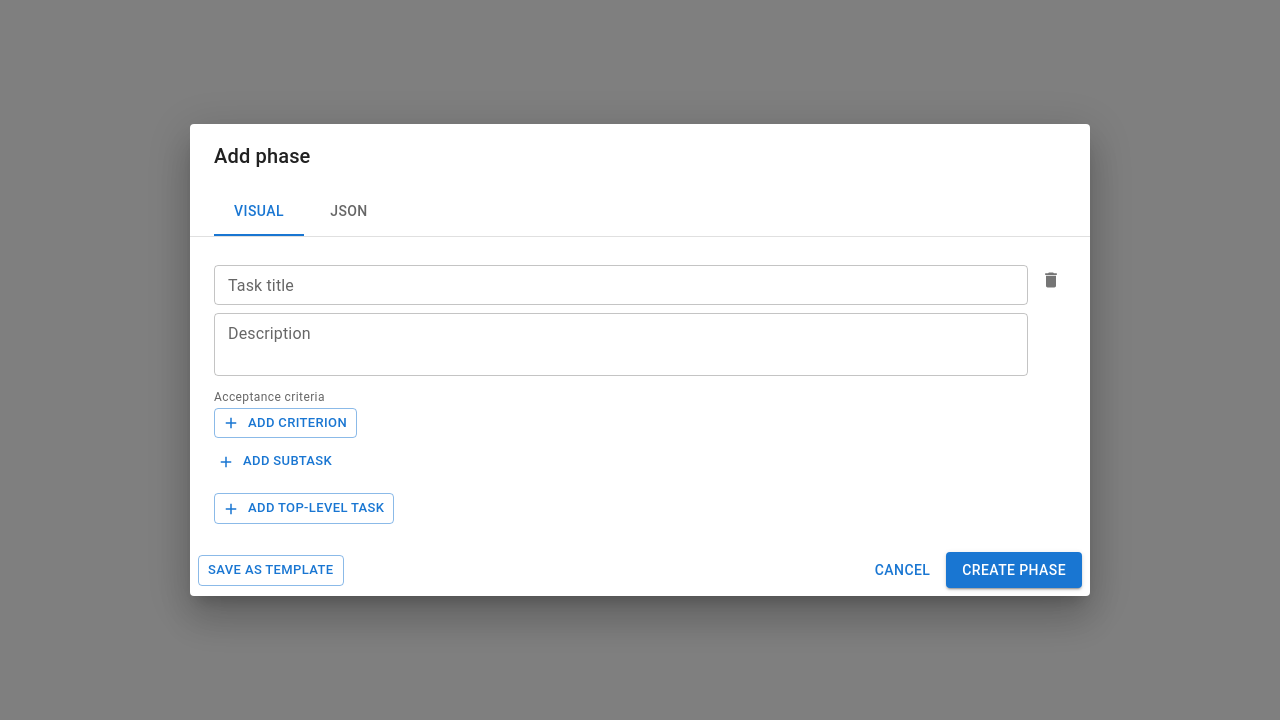
Test case: NewPhaseDialog › opens the save-as-template dialog and saves on confirm
Click the button with test id "new-phase-save-template": (271, 570) [198,555,344,586]
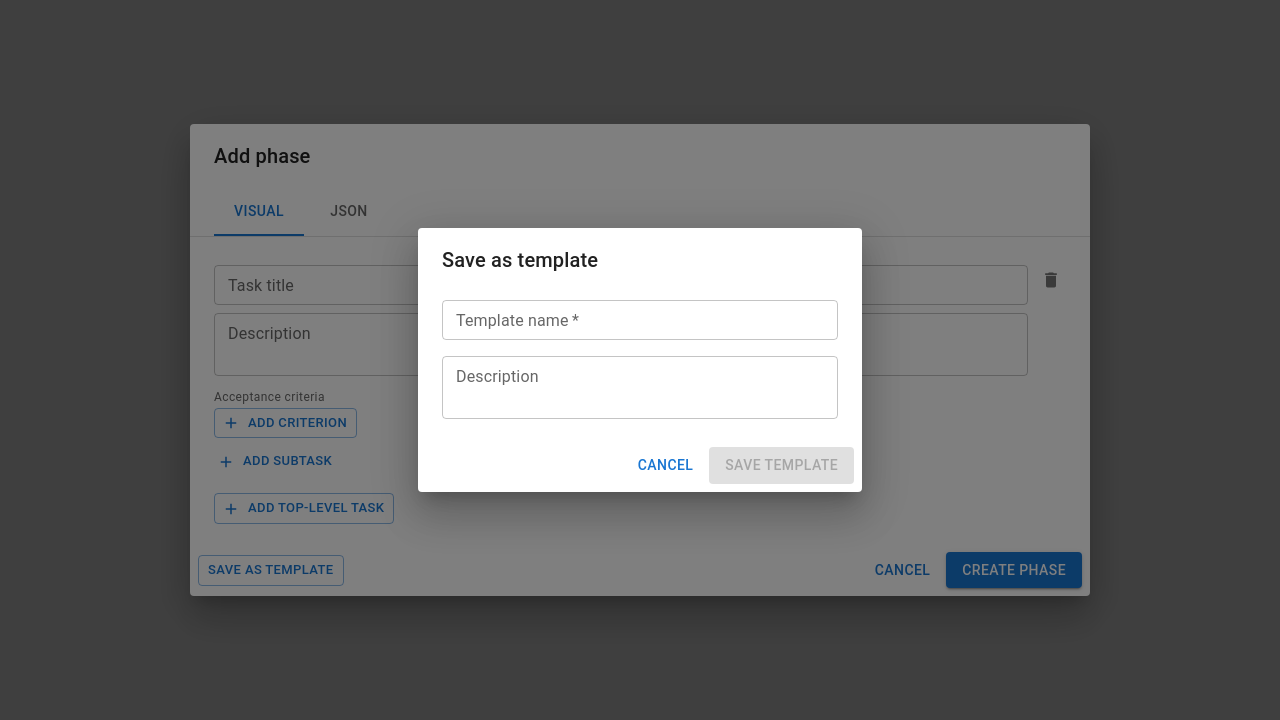
Result: the element with test id "phase-save-template-dialog" is shown
In the field labelled "Template name *": (640, 320) [442,300,838,340], type "My Template"
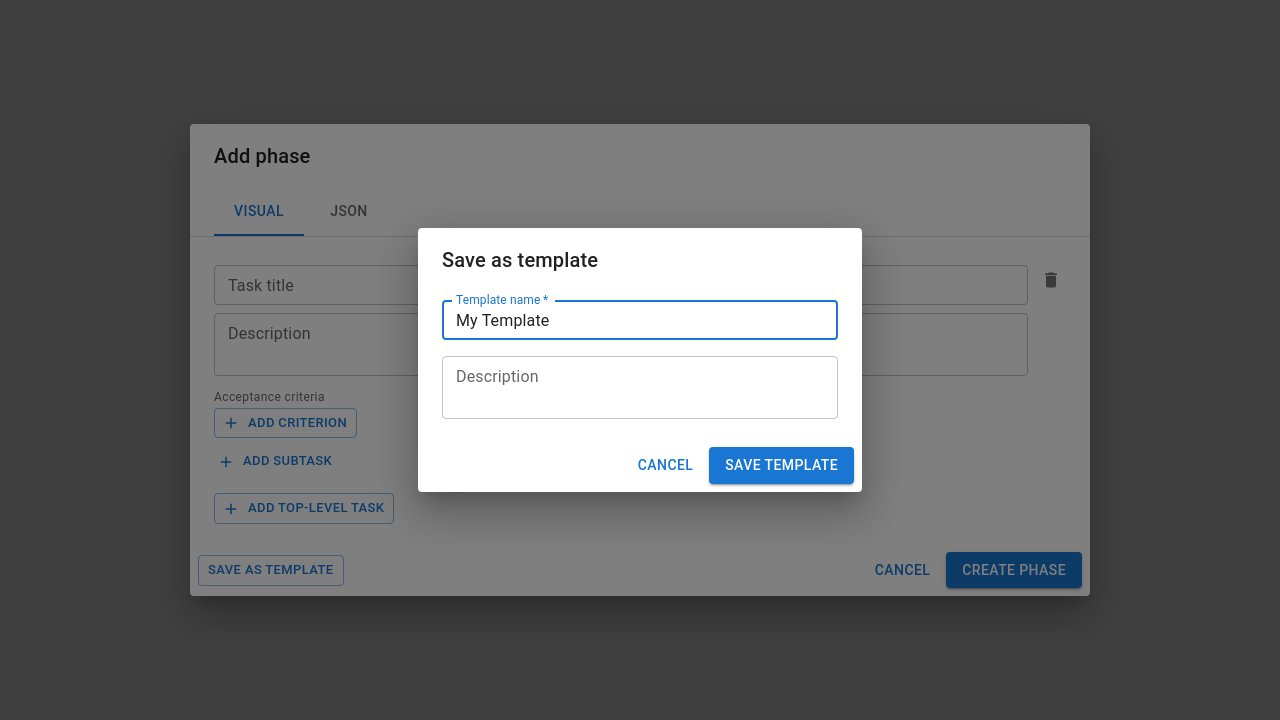
Click the button with test id "phase-template-confirm": (782, 466) [709,447,854,484]
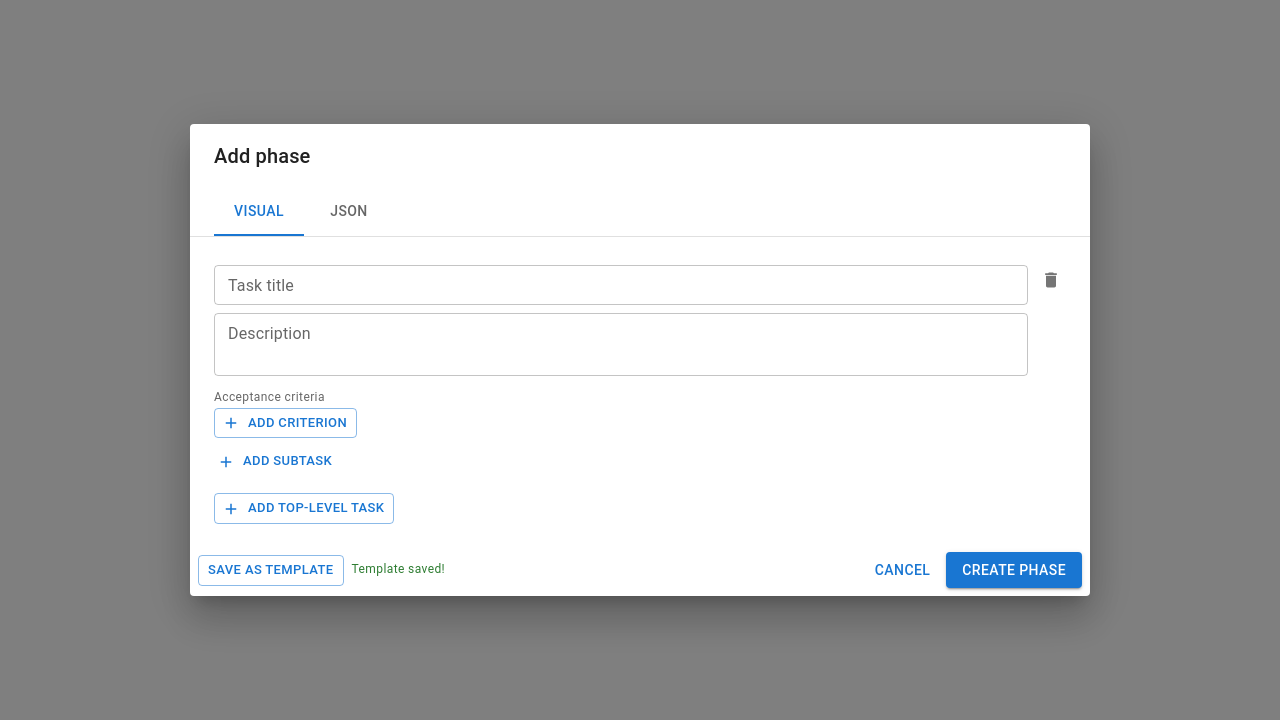
Result: the element with test id "phase-save-template-dialog" is gone
